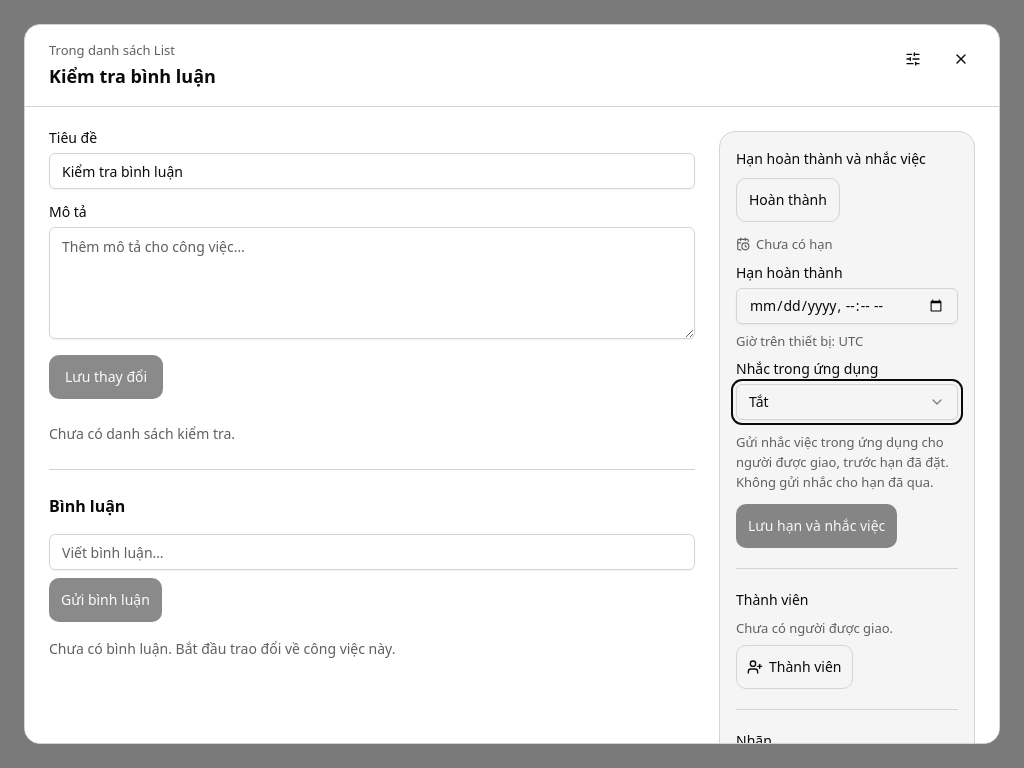
Test: keeps the schedule draft after a rejected save and disables reminder choices without a date
Check: the heading "Kiểm tra bình luận" is shown, box left=49, top=63, right=216, bottom=90
Check: the field labelled "Tiêu đề" is shown, box left=49, top=153, right=695, bottom=189
Press Arrowdown
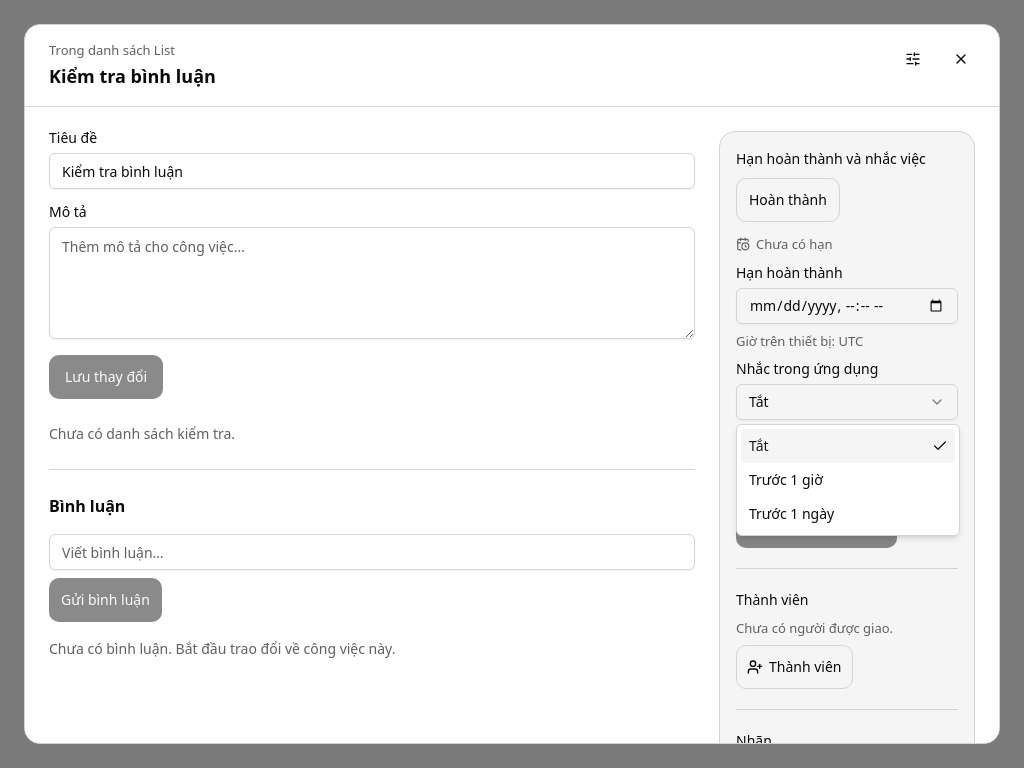
Press Escape
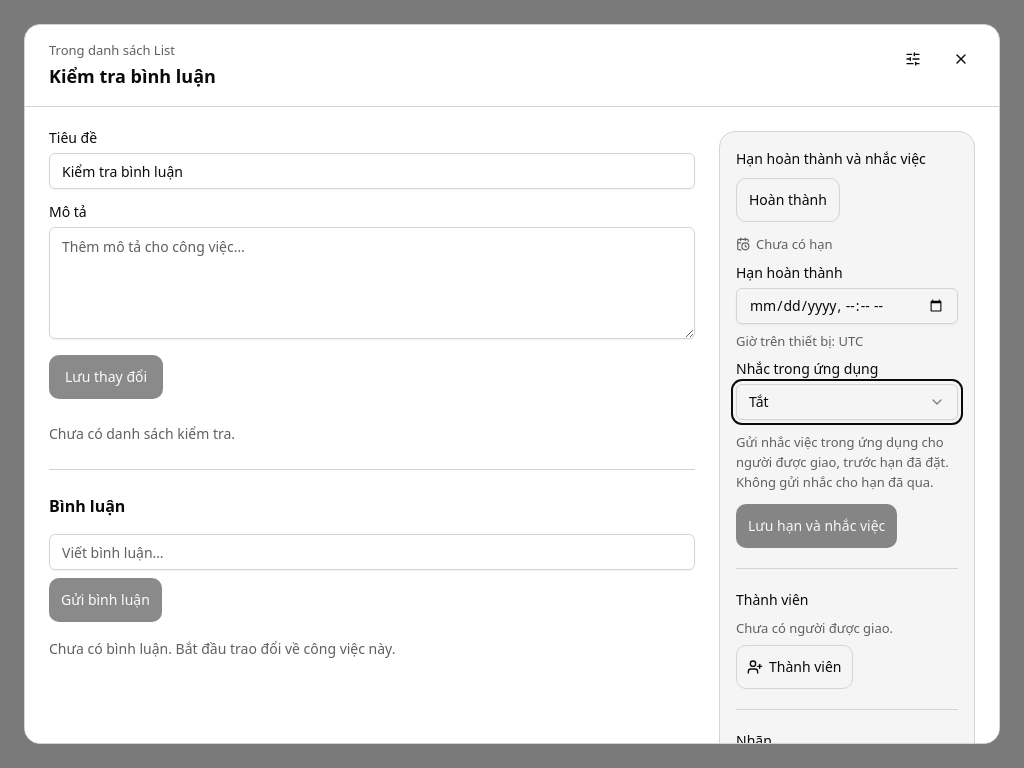
Type "2026-10-25T09:00" into the field labelled "Hạn hoàn thành" at coordinates (847, 306), box left=736, top=288, right=958, bottom=324
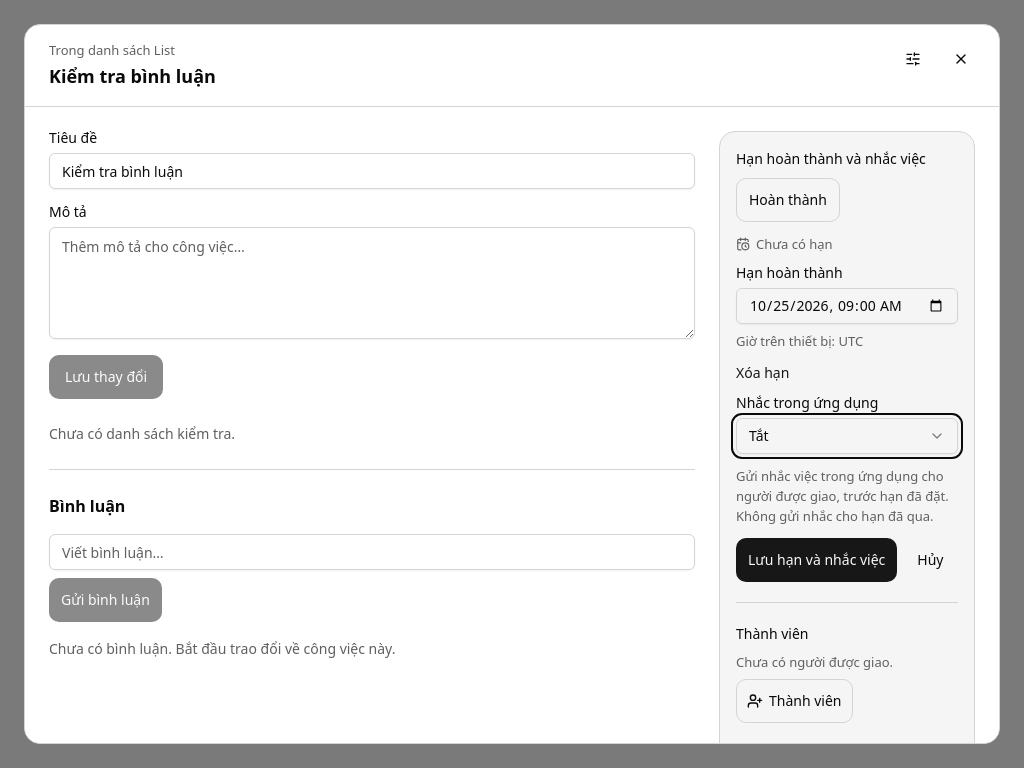
Click the button "Lưu hạn và nhắc việc" at coordinates (817, 560), box left=736, top=538, right=897, bottom=582
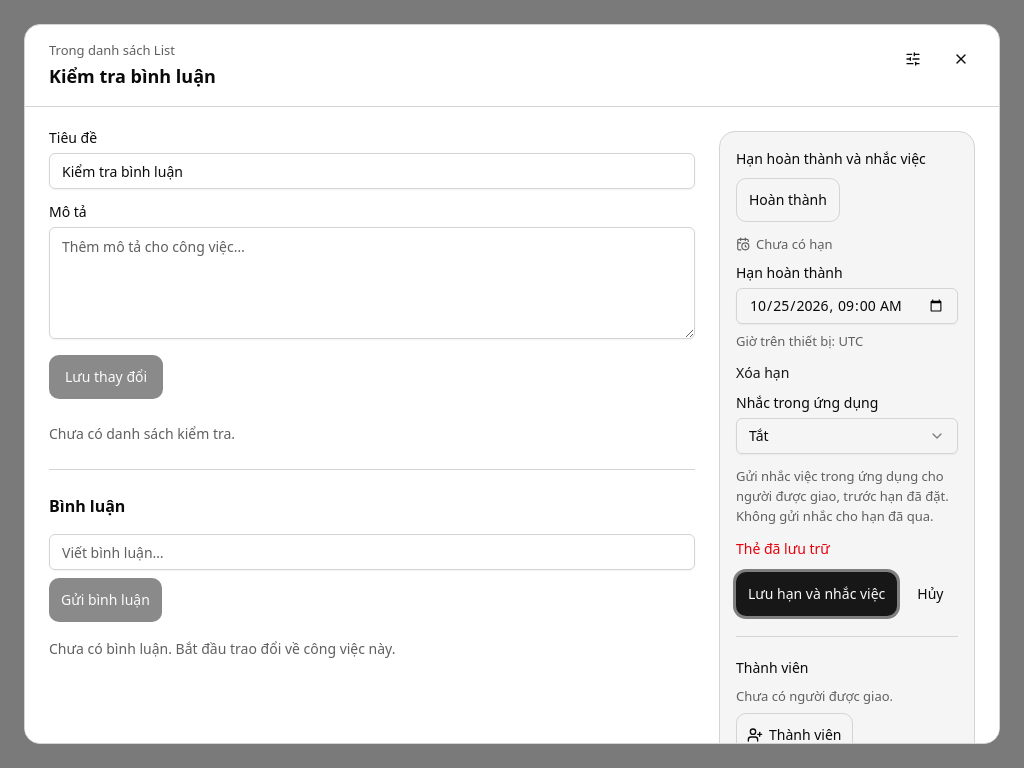
Check: the message reads "Thẻ đã lưu trữ", box left=736, top=539, right=830, bottom=558
